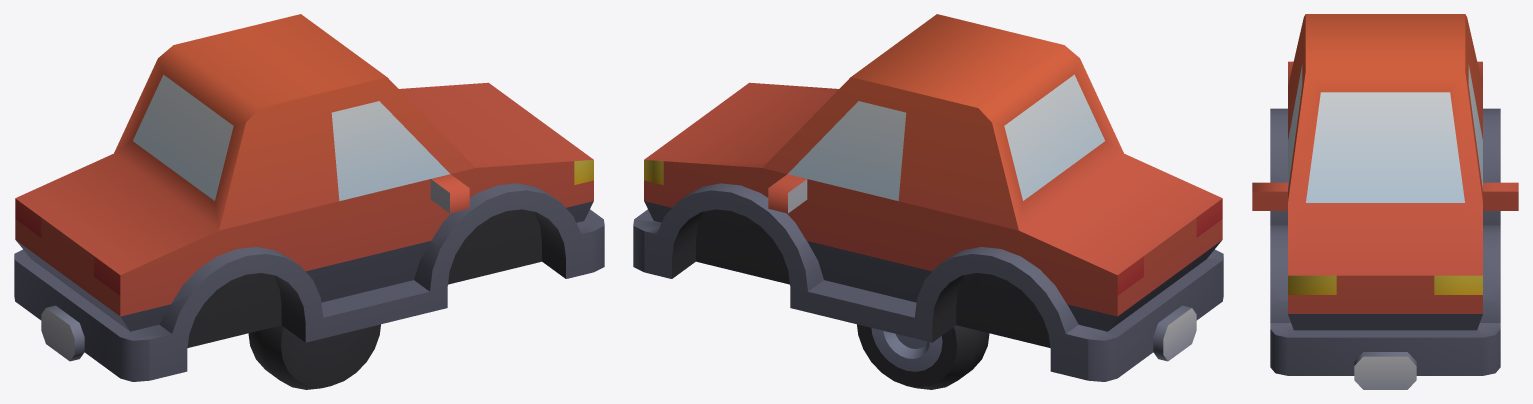
File: sedan.glb
3 views of the same model, side by side, from view 1: azimuth 30°, elevation 25°; view 2: azimuth 150°, elevation 25°; view 3: azimuth 270°, elevation 25° (orthographic). The views are drawn at different scales.
Visible parts, largest first — view 1: body, wheel; view 2: body, wheel; view 3: body.
Part boxes in pixels (x1,y1,x2,y2): body: (14,14,604,381); wheel: (248,324,380,389); body: (633,14,1223,381); wheel: (857,324,989,389); body: (1252,14,1518,389).
Size of the model in its own units: 4 by 2.51 by 1.98.
